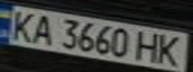0: (109, 26, 133, 59)
3: (54, 16, 81, 51)
6: (93, 24, 115, 56), (75, 20, 96, 53)
A: (27, 12, 57, 46)
H: (133, 29, 163, 64)
K: (3, 8, 39, 42), (154, 33, 187, 66)
